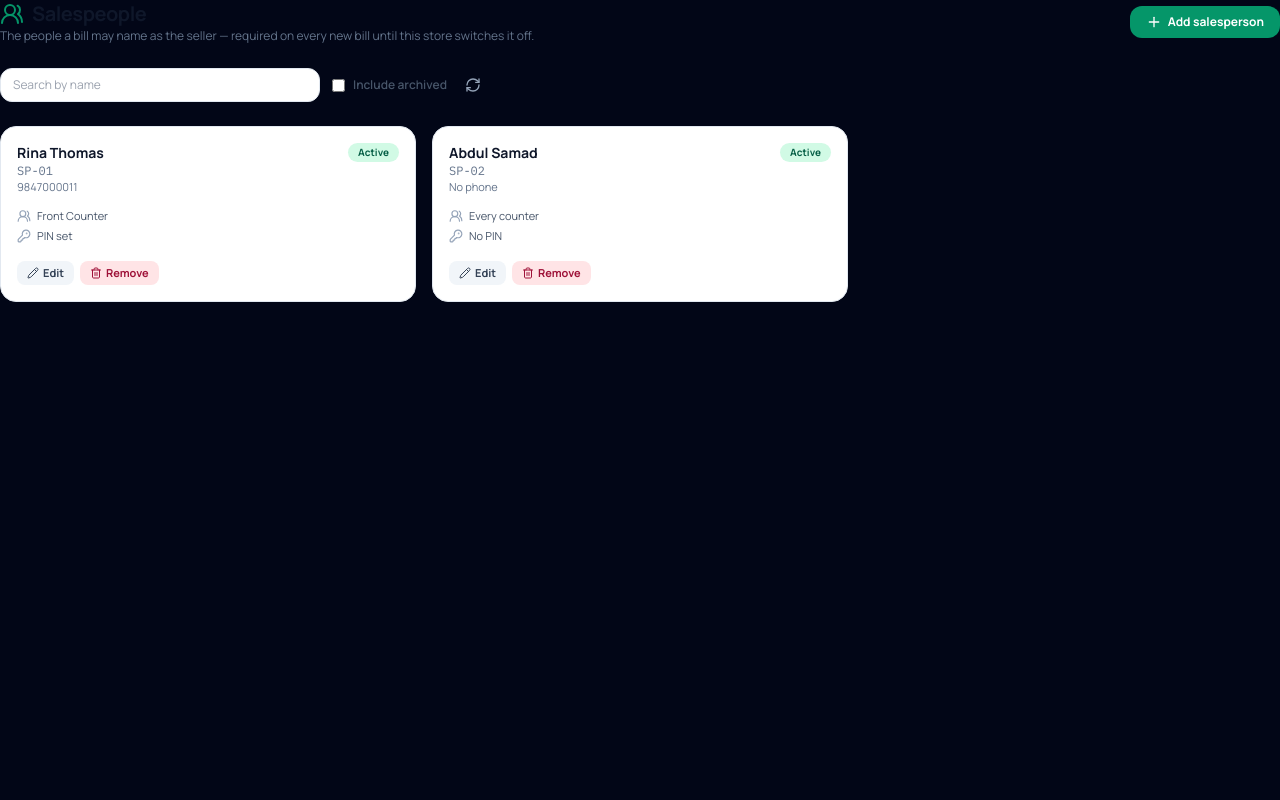
Test case: salespeople master › refuses a trivial PIN in the browser and never sends it
The image size is (1280, 800).
expect the text "Rina Thomas" is shown: met, box [17,143,104,163]
Click the button "Add salesperson": (1205, 22) [1130,6,1279,38]
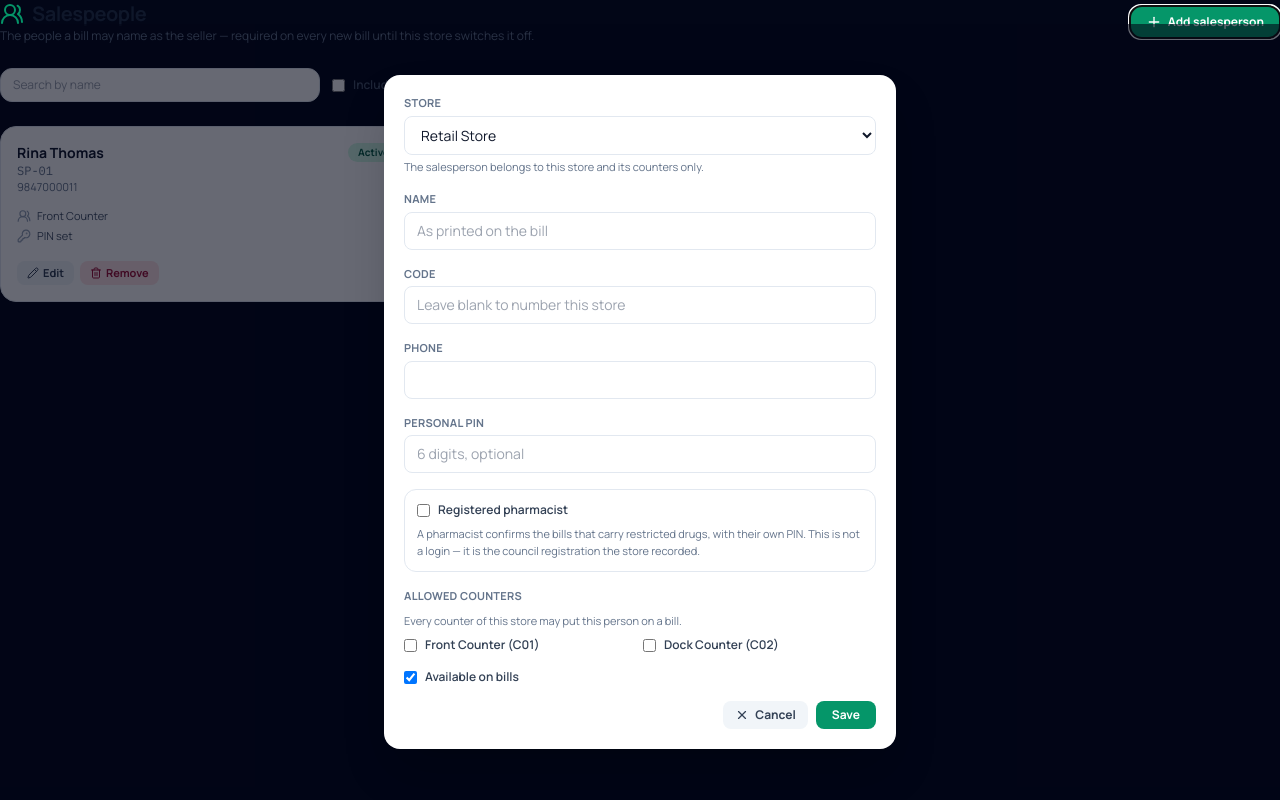
In the field labelled "Name": (640, 230) [404,212,876,250], type "Deepa Raj"
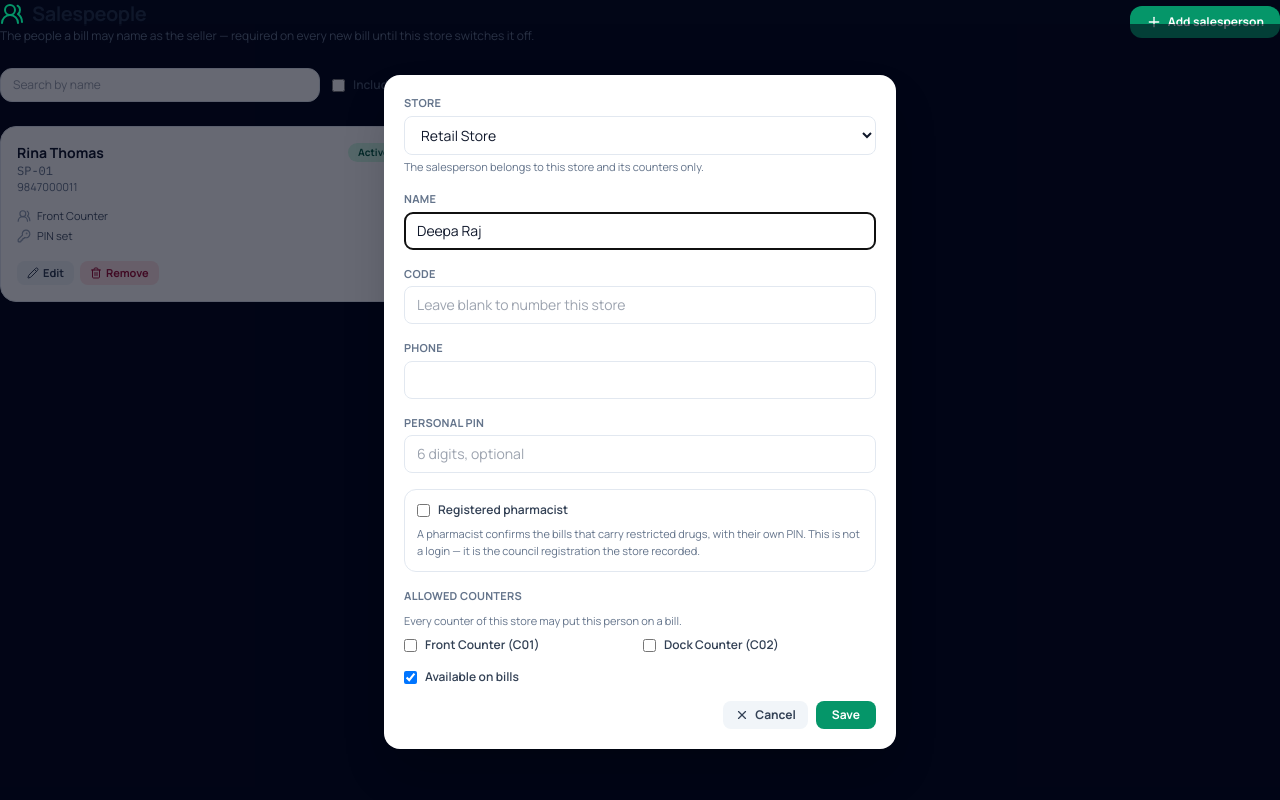
In the password field labelled "Personal PIN": (640, 454) [404,435,876,473], type "111111"
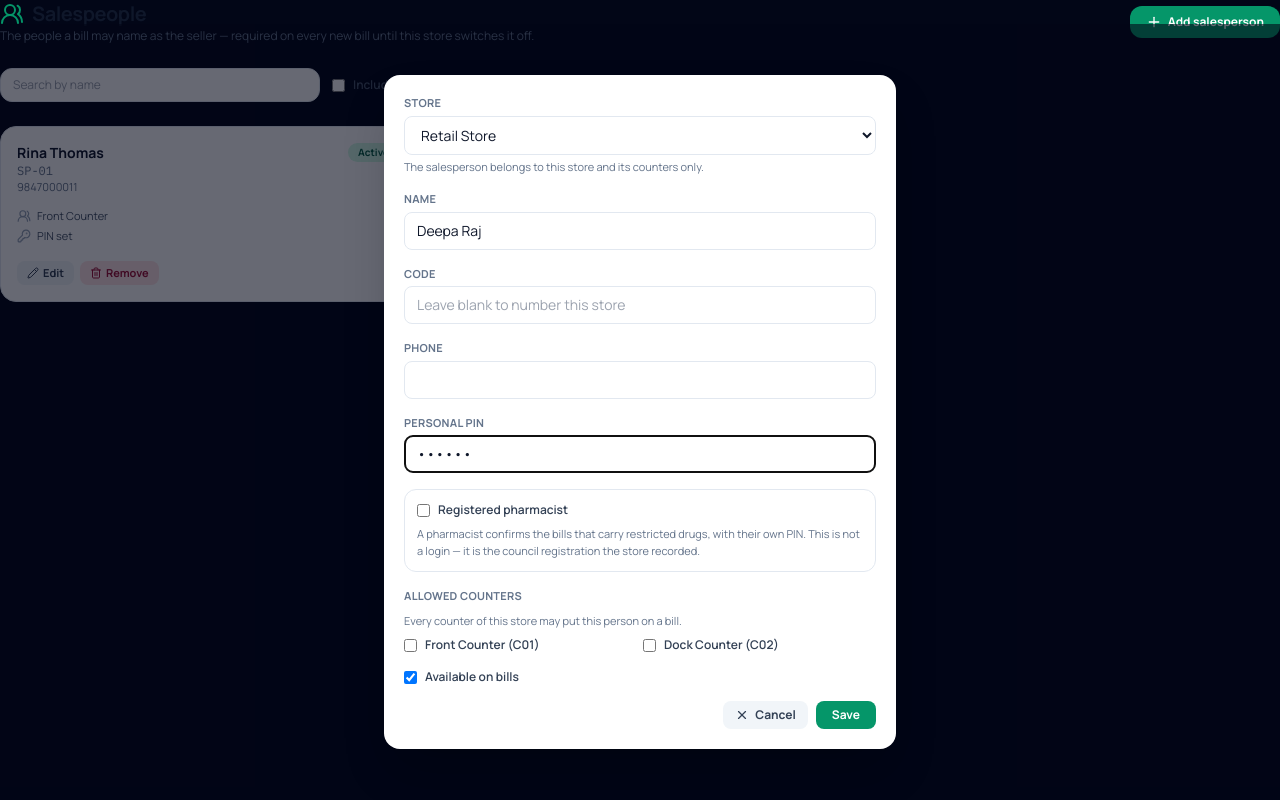
Click the button "Save": (846, 715) [816,701,876,729]
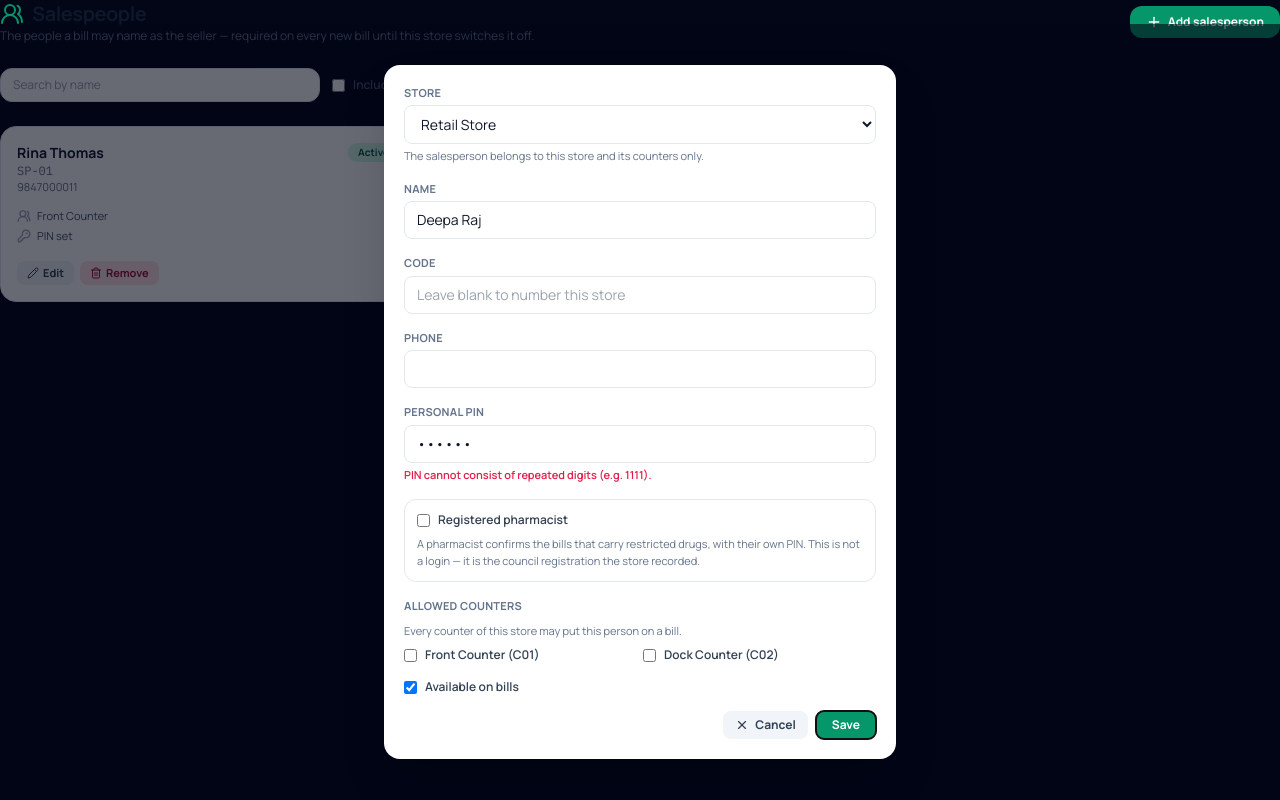
expect the text "PIN cannot consist of repeated digits (e.g. 1111)." is shown: met, box [404,467,652,482]
